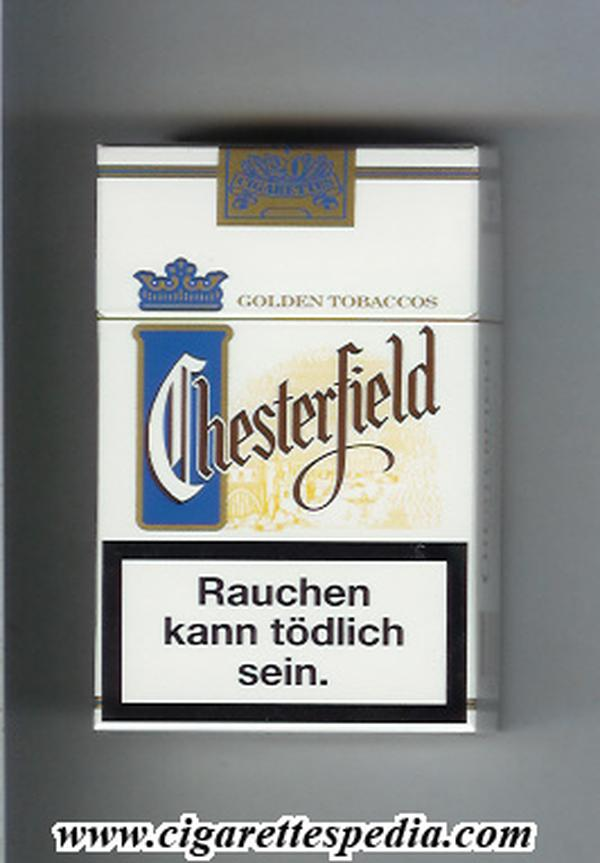chesterfield_blue: (100, 148, 474, 733)
